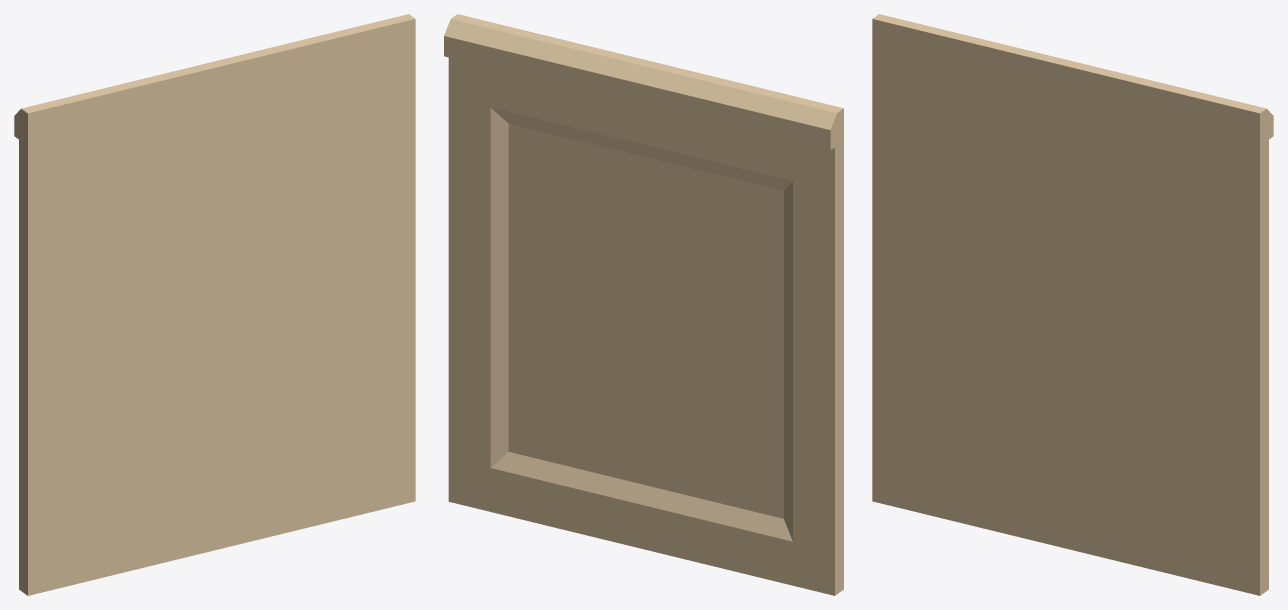
The model's file is paneling.glb.
The picture shows the model from 3 angles, left to right: view 1: azimuth 30°, elevation 25°; view 2: azimuth 150°, elevation 25°; view 3: azimuth 330°, elevation 25°; orthographic projection.
Parts seen in each view (by area): view 1: paneling; view 2: paneling; view 3: paneling.
Boxes of the visible parts, x1=… form: paneling: x1=14, y1=14, x2=415, y2=595; paneling: x1=444, y1=14, x2=843, y2=595; paneling: x1=872, y1=14, x2=1273, y2=595.
Bounding box in the file's own units: 5 × 5.95 × 0.3.
